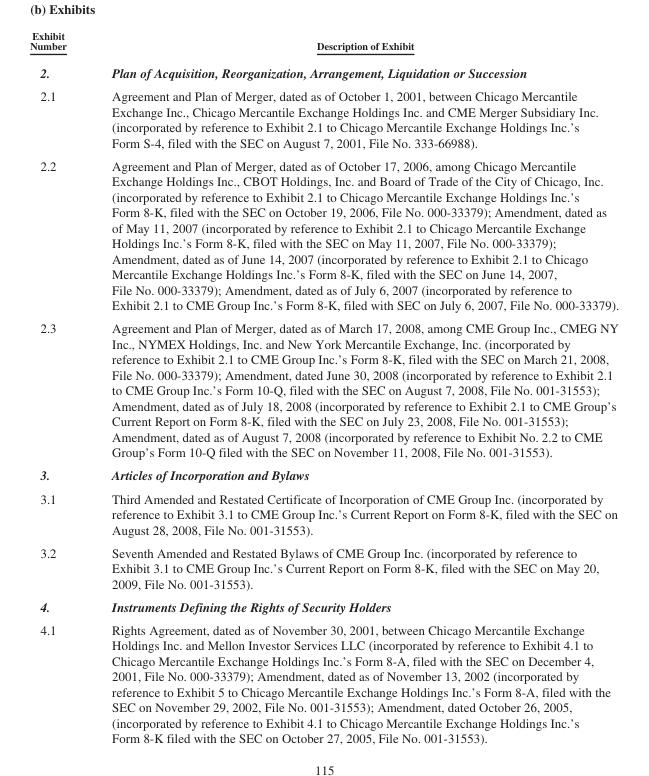table: (29, 28, 618, 745)
table column: (88, 28, 618, 745), (29, 28, 88, 745)
table column header: (29, 28, 618, 58)
table row: (29, 153, 618, 316), (29, 316, 618, 463), (29, 617, 618, 745), (29, 84, 618, 153), (29, 486, 618, 540), (29, 540, 618, 594), (29, 28, 618, 58), (29, 58, 618, 84), (29, 463, 618, 486), (29, 594, 618, 617)
